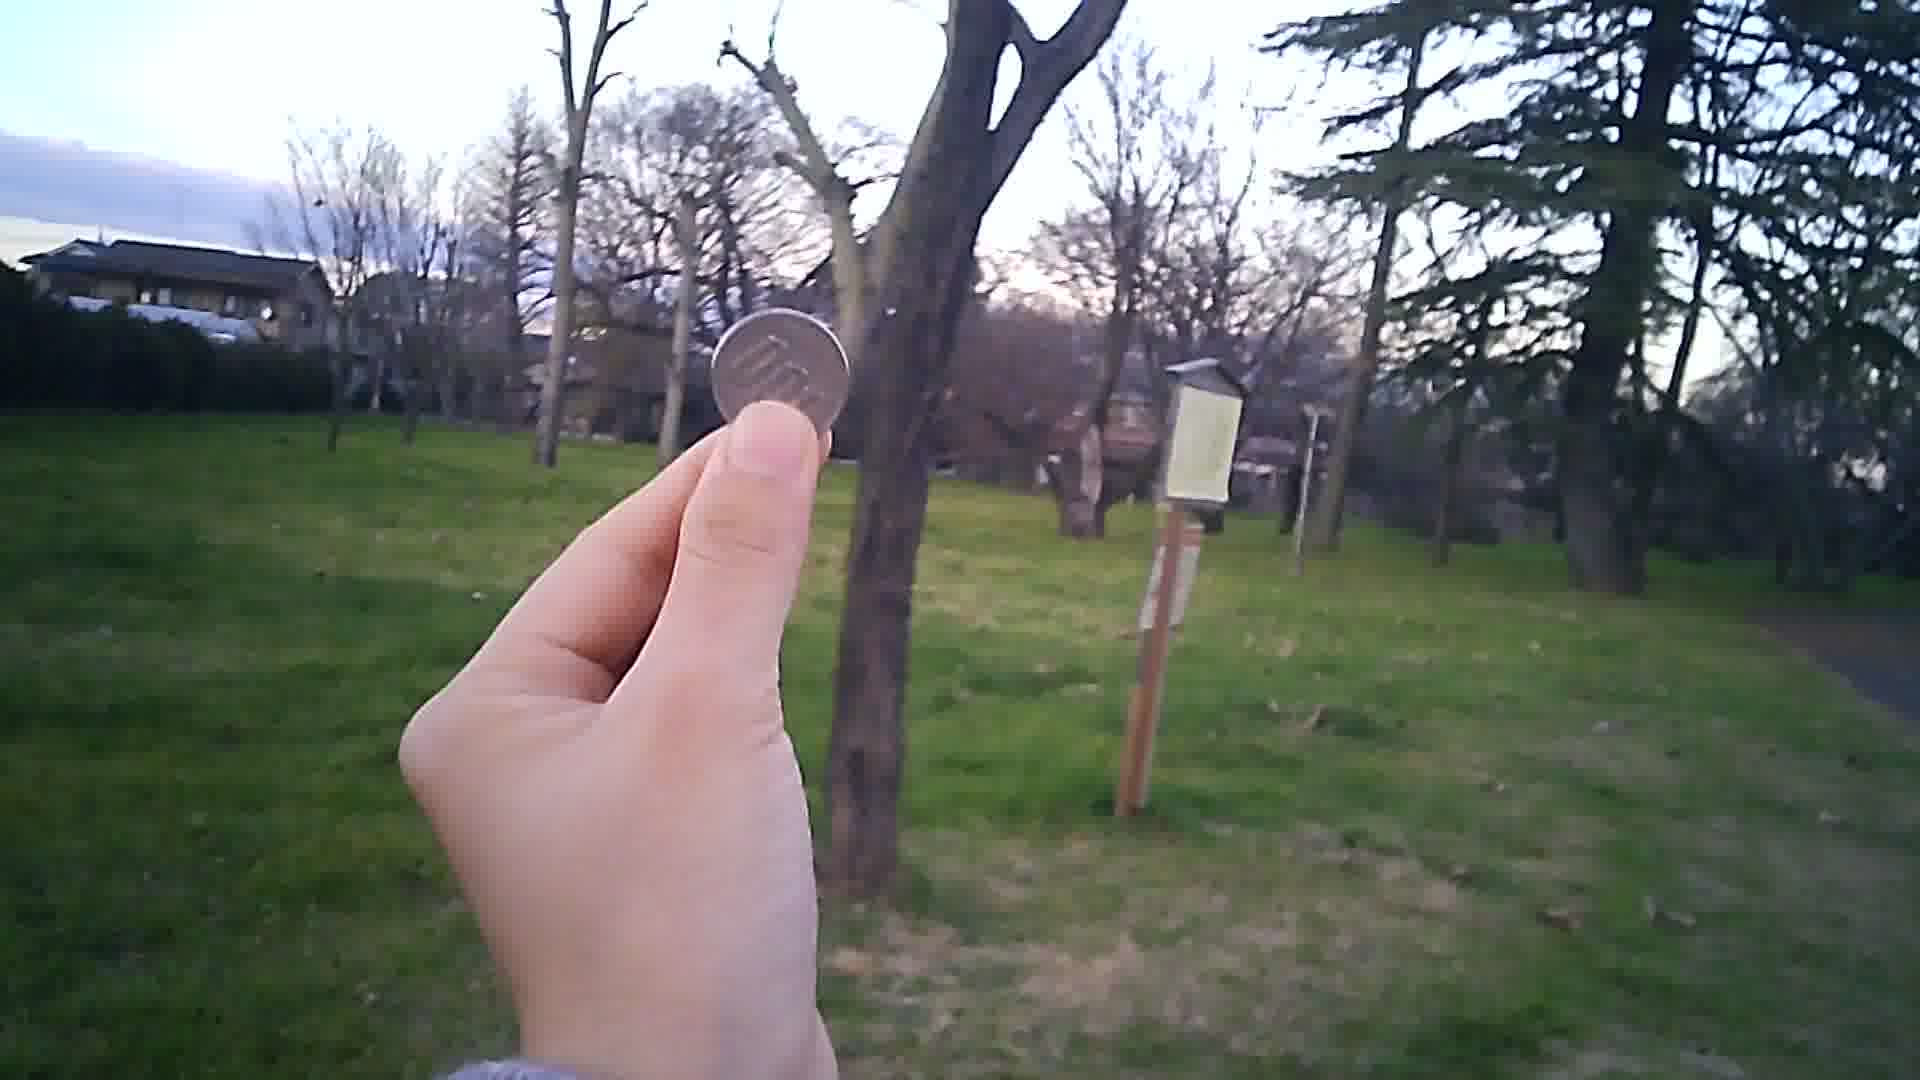100 Yen: (707, 309, 858, 444)
